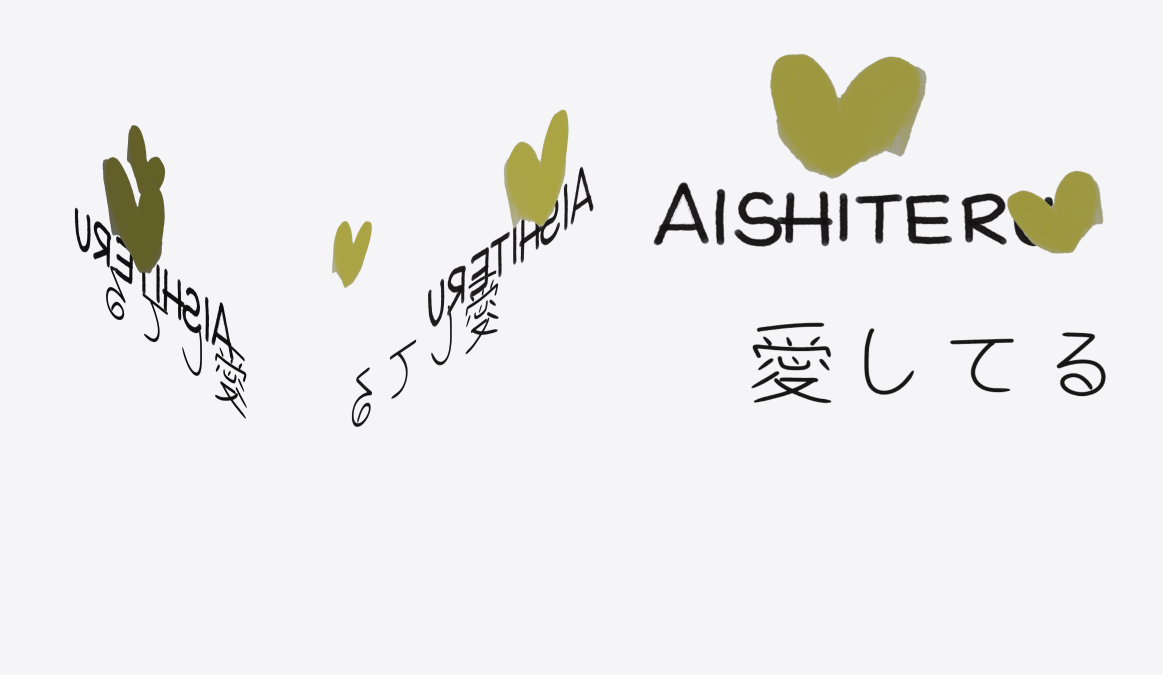
Rendered from ar-aishiteru-1.glb.
The picture shows the model from 3 angles, left to right: view 1: azimuth 30°, elevation 25°; view 2: azimuth 150°, elevation 25°; view 3: azimuth 270°, elevation 25°; orthographic projection. The views are drawn at different scales.
Parts seen in each view (by area): view 1: Herz1, Aishiteru, Aishiteru_Zeichen, Herz2; view 2: Herz1, Aishiteru, Herz2, Aishiteru_Zeichen; view 3: Herz1, Aishiteru, Herz2, Aishiteru_Zeichen.
Boxes of the visible parts, x1=… form: Herz1: x1=102, y1=157, x2=164, y2=273; Aishiteru: x1=75, y1=208, x2=233, y2=360; Aishiteru_Zeichen: x1=106, y1=266, x2=246, y2=418; Herz2: x1=127, y1=125, x2=164, y2=193; Herz1: x1=504, y1=109, x2=568, y2=228; Aishiteru: x1=428, y1=166, x2=593, y2=326; Herz2: x1=332, y1=221, x2=371, y2=287; Aishiteru_Zeichen: x1=351, y1=270, x2=498, y2=426; Herz1: x1=770, y1=54, x2=926, y2=178; Aishiteru: x1=653, y1=182, x2=1052, y2=246; Herz2: x1=1007, y1=171, x2=1103, y2=253; Aishiteru_Zeichen: x1=751, y1=322, x2=1105, y2=403.
Bounding box in the file's own units: 0.2192 × 1.09 × 0.8268.
4 materials, 4 textured.
